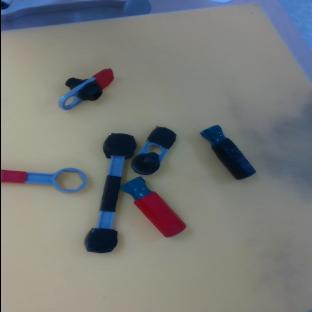part_1_bad: (127, 121, 177, 181)
part_1_good: (50, 63, 119, 113)
part_2_bad: (198, 121, 255, 185)
part_2_good: (118, 171, 186, 243)
part_3_bad: (81, 130, 137, 256)
part_3_good: (0, 168, 85, 192)
